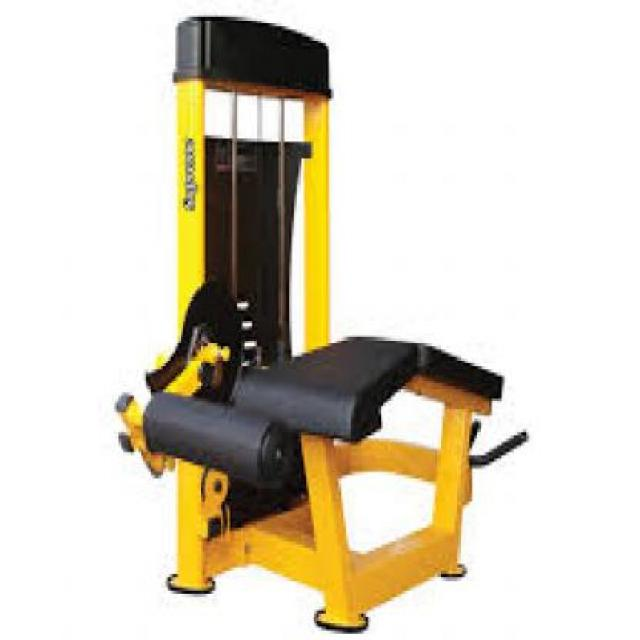reg curl machine: (112, 17, 534, 632)
